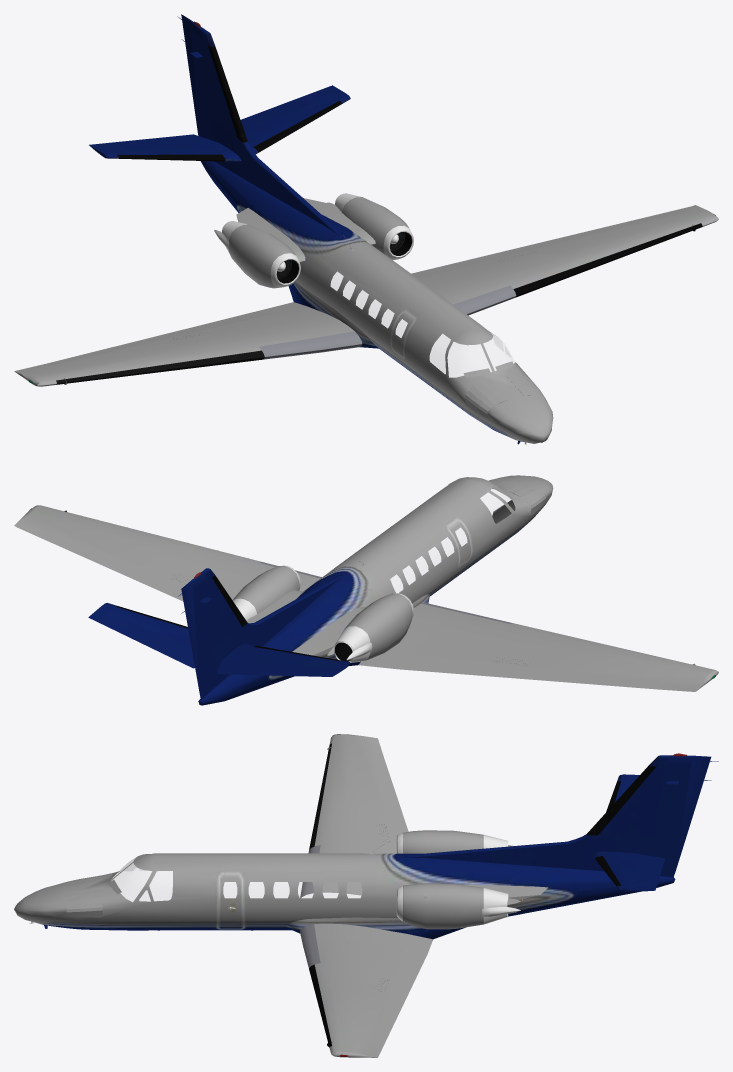
File: learjet.glb
3 views of the same model, one above another, from view 1: azimuth 30°, elevation 25°; view 2: azimuth 150°, elevation 25°; view 3: azimuth 270°, elevation 25° (orthographic). The views are drawn at different scales.
Parts seen in each view (by area): view 1: Rudder, RHwing.002, Glass.inside, RHwing.heater.002, RH.Ureverser; view 2: Rudder, RHwing.002, Glass.inside, RH.Ureverser; view 3: RHwing.002, Rudder, Glass.inside, RH.Ureverser, RHwing.heater.002.
Boxes of the visible parts, x1,y1,x2,y2 form: Rudder: [14, 14, 718, 386]; RHwing.002: [155, 161, 578, 444]; Glass.inside: [331, 272, 514, 376]; RHwing.heater.002: [259, 285, 516, 359]; RH.Ureverser: [214, 193, 413, 287]; Rudder: [14, 500, 718, 699]; RHwing.002: [155, 475, 578, 705]; Glass.inside: [391, 484, 514, 592]; RH.Ureverser: [232, 565, 413, 662]; RHwing.002: [14, 809, 675, 998]; Rudder: [51, 734, 718, 1057]; Glass.inside: [113, 858, 361, 901]; RH.Ureverser: [229, 833, 520, 924]; RHwing.heater.002: [300, 845, 320, 967].
Bounding box in the file's own units: 15.62 × 4.06 × 14.48.
7 materials, 5 textured.
